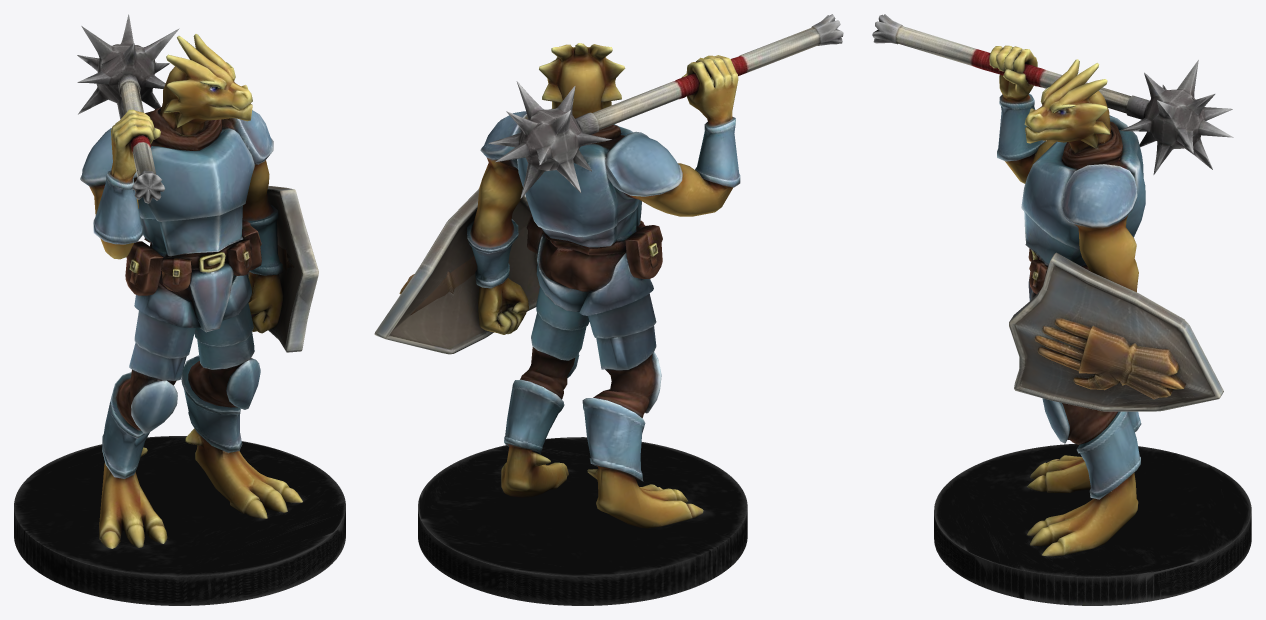
The model's file is MZ4250 - Dragonborn Cleric.glb.
3 renders of one model, left to right at view 1: azimuth 30°, elevation 25°; view 2: azimuth 150°, elevation 25°; view 3: azimuth 270°, elevation 25°, orthographic. The views are drawn at different scales.
Parts seen in each view (by area): view 1: body_low.001, base_low.001; view 2: body_low.001, base_low.001; view 3: body_low.001, base_low.001.
Boxes of the visible parts, x1=… form: body_low.001: x1=77, y1=14, x2=318, y2=548; base_low.001: x1=14, y1=436, x2=345, y2=605; body_low.001: x1=374, y1=14, x2=843, y2=528; base_low.001: x1=418, y1=437, x2=747, y2=605; body_low.001: x1=872, y1=14, x2=1233, y2=556; base_low.001: x1=934, y1=443, x2=1251, y2=605.
Size of the model in its own units: 4.7 by 7.46 by 5.39.
1 material, 1 textured.
